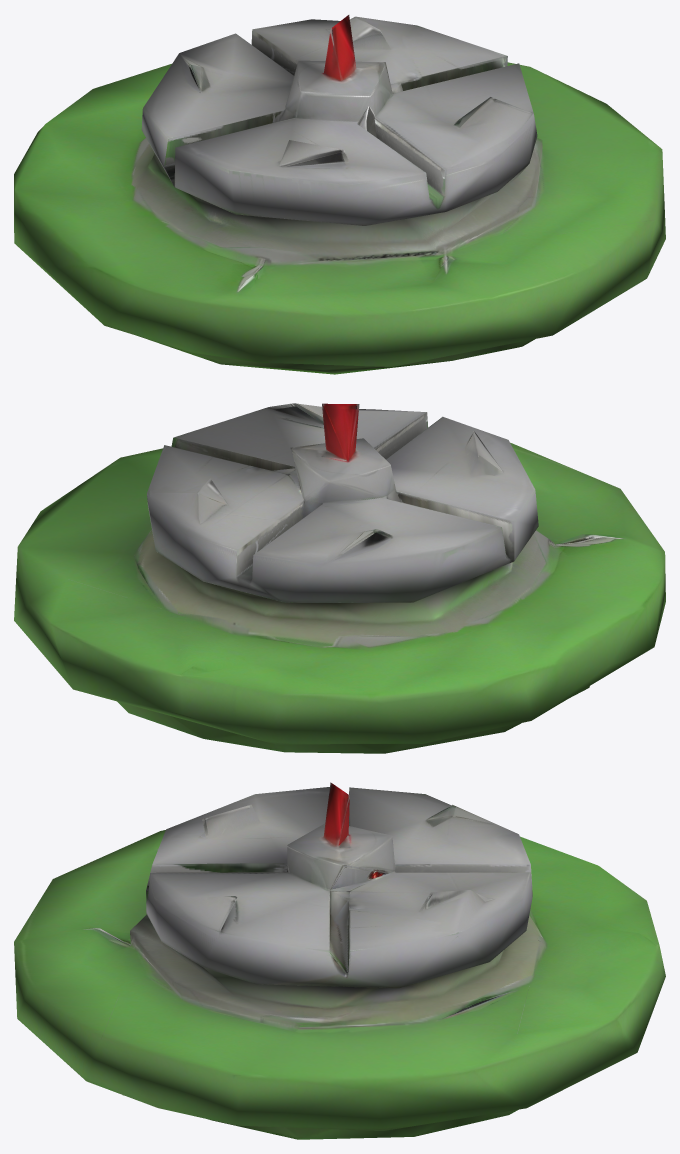
Rendered from LandMine.fbx.
3 renders of one model, top to bottom at view 1: azimuth 30°, elevation 25°; view 2: azimuth 150°, elevation 25°; view 3: azimuth 270°, elevation 25°, orthographic.
Parts seen in each view (by area): view 1: Mesh_0; view 2: Mesh_0; view 3: Mesh_0.
Boxes of the visible parts, x1,y1,x2,y2 form: Mesh_0: (14,15,665,374); Mesh_0: (14,403,665,753); Mesh_0: (14,782,665,1139).
Bounding box in the file's own units: 201 × 81.33 × 201.
Materials: 1 (1 with a texture image).
